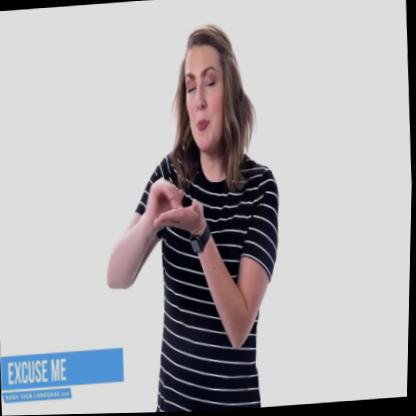ExcuseMe: (131, 161, 210, 252)
